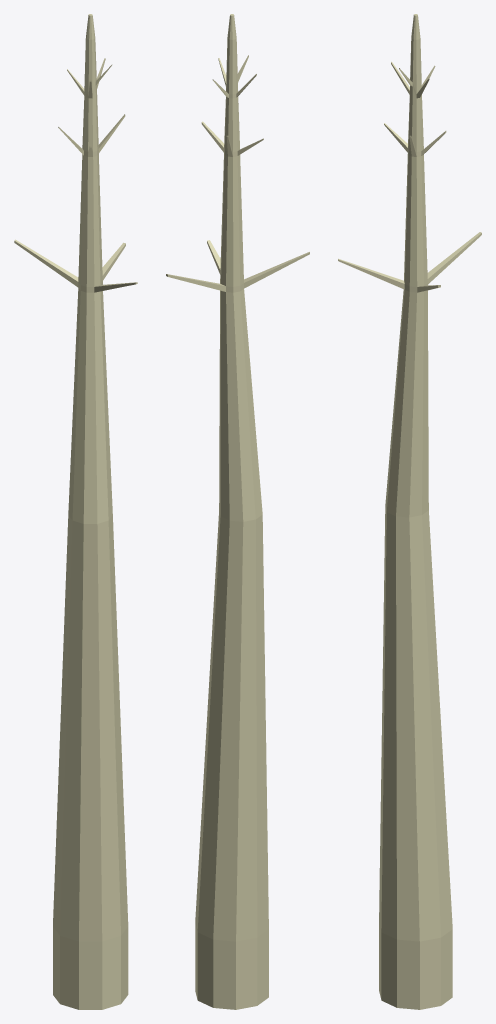
The model's file is DeadTree2.fbx.
The picture shows the model from 3 angles, left to right: view 1: azimuth 90°, elevation 25°; view 2: azimuth 150°, elevation 25°; view 3: azimuth 330°, elevation 25°; orthographic projection.
Parts seen in each view (by area): view 1: Cylinder.122; view 2: Cylinder.122; view 3: Cylinder.122.
Boxes of the visible parts, box(x1,y1,x2,y2) form: Cylinder.122: box(14, 14, 137, 1009); Cylinder.122: box(166, 14, 309, 1009); Cylinder.122: box(338, 14, 481, 1009).
Size of the model in its own units: 1047 by 10119 by 1151.
